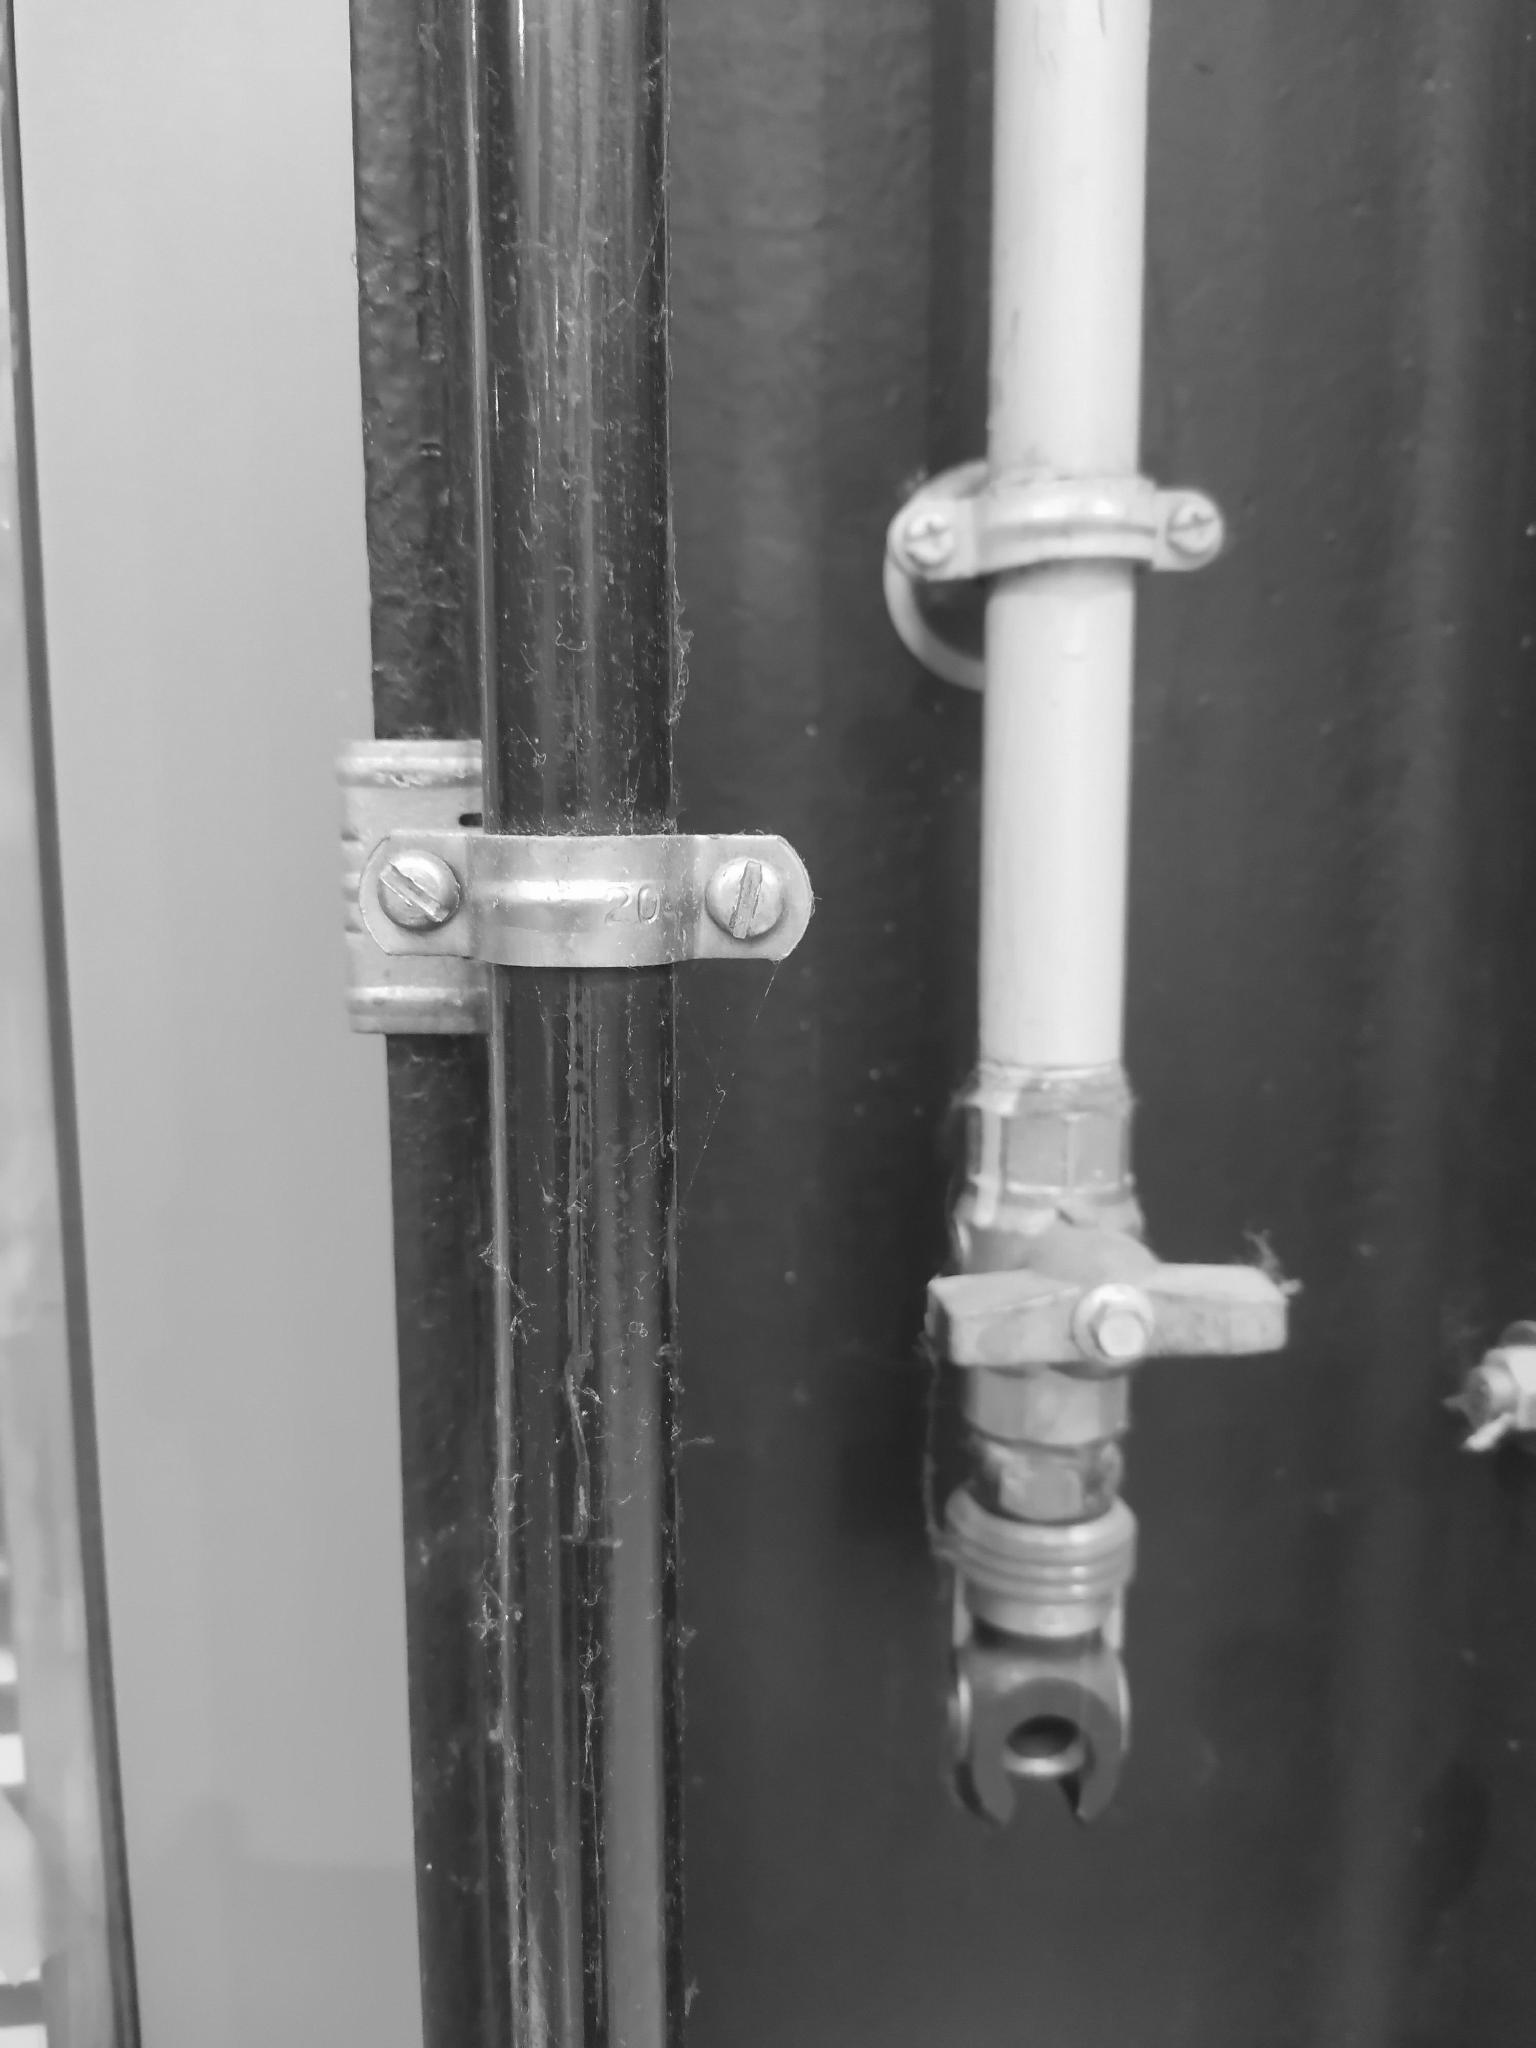slotted: (373, 851, 465, 937), (703, 856, 787, 943)
